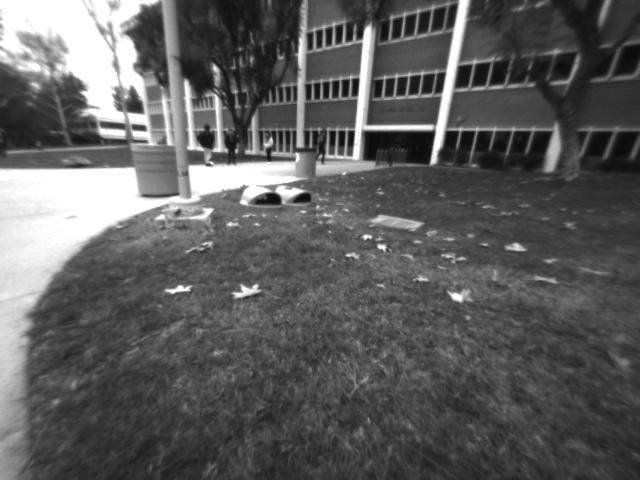trashcan: (287, 142, 316, 183)
